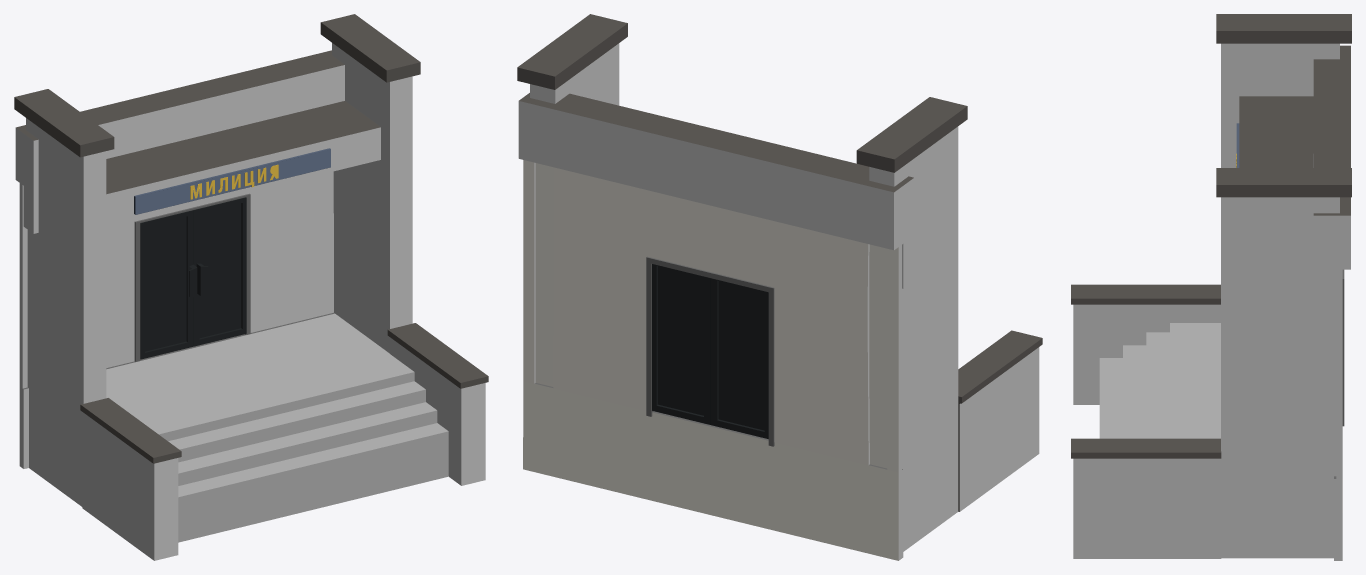
The model's file is police_station_entrance.FBX.
3 renders of one model, left to right at view 1: azimuth 30°, elevation 25°; view 2: azimuth 150°, elevation 25°; view 3: azimuth 270°, elevation 25°, orthographic. The views are drawn at different scales.
Parts seen in each view (by area): view 1: police_station_entrance_002, police_statio_entrance_door_type1_002, police_statio_entrance_door_type2_002, Police_sign001; view 2: police_station_entrance_002, police_statio_entrance_door_type1_002, police_statio_entrance_door_type2_002; view 3: police_station_entrance_002.
Boxes of the visible parts, x1=… form: police_station_entrance_002: x1=14, y1=14, x2=488, y2=560; police_statio_entrance_door_type1_002: x1=140, y1=210, x2=197, y2=359; police_statio_entrance_door_type2_002: x1=193, y1=197, x2=246, y2=346; Police_sign001: x1=134, y1=148, x2=330, y2=214; police_station_entrance_002: x1=517, y1=14, x2=1042, y2=560; police_statio_entrance_door_type1_002: x1=710, y1=278, x2=768, y2=438; police_statio_entrance_door_type2_002: x1=652, y1=264, x2=710, y2=424; police_station_entrance_002: x1=1071, y1=14, x2=1351, y2=560.
Size of the model in its own units: 1497 by 1538 by 1039.
Materials: 3 (3 with a texture image).
